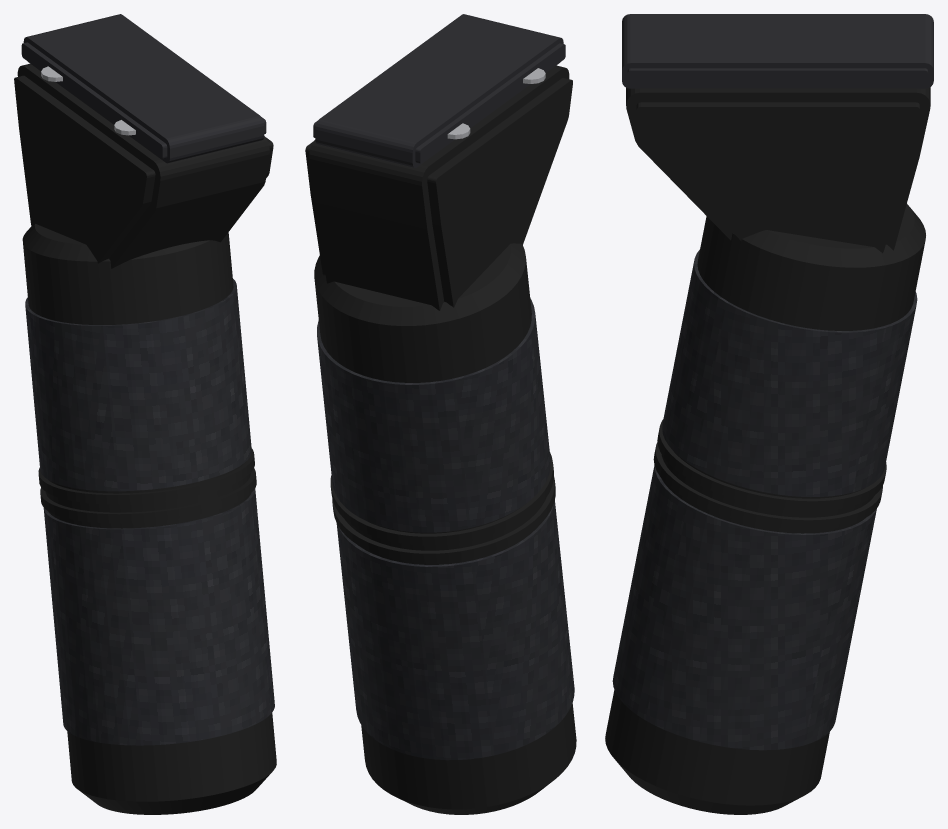
The model's file is empunhadura_cilindrica.glb.
The picture shows the model from 3 angles, left to right: view 1: azimuth 30°, elevation 25°; view 2: azimuth 150°, elevation 25°; view 3: azimuth 270°, elevation 25°; orthographic projection. The views are drawn at different scales.
Visible parts, largest first — view 1: empunhadura_cilindrica_recartilhado, empunhadura_cilindrica_aluminio_preto, empunhadura_cilindrica_polimero, empunhadura_cilindrica_aco_inox; view 2: empunhadura_cilindrica_recartilhado, empunhadura_cilindrica_aluminio_preto, empunhadura_cilindrica_polimero, empunhadura_cilindrica_aco_inox; view 3: empunhadura_cilindrica_recartilhado, empunhadura_cilindrica_aluminio_preto, empunhadura_cilindrica_polimero.
Boxes of the visible parts, bbox=[...] form: empunhadura_cilindrica_recartilhado: bbox=[25, 279, 274, 745]; empunhadura_cilindrica_aluminio_preto: bbox=[14, 63, 276, 814]; empunhadura_cilindrica_polimero: bbox=[21, 14, 266, 163]; empunhadura_cilindrica_aco_inox: bbox=[41, 66, 135, 135]; empunhadura_cilindrica_recartilhado: bbox=[317, 298, 574, 760]; empunhadura_cilindrica_aluminio_preto: bbox=[305, 65, 576, 814]; empunhadura_cilindrica_polimero: bbox=[313, 14, 565, 167]; empunhadura_cilindrica_aco_inox: bbox=[447, 68, 545, 139]; empunhadura_cilindrica_recartilhado: bbox=[612, 249, 917, 750]; empunhadura_cilindrica_aluminio_preto: bbox=[605, 87, 930, 814]; empunhadura_cilindrica_polimero: bbox=[622, 14, 933, 88].
Bounding box in the file's own units: 0.0326 × 0.1168 × 0.0464.
4 materials, 1 textured.
